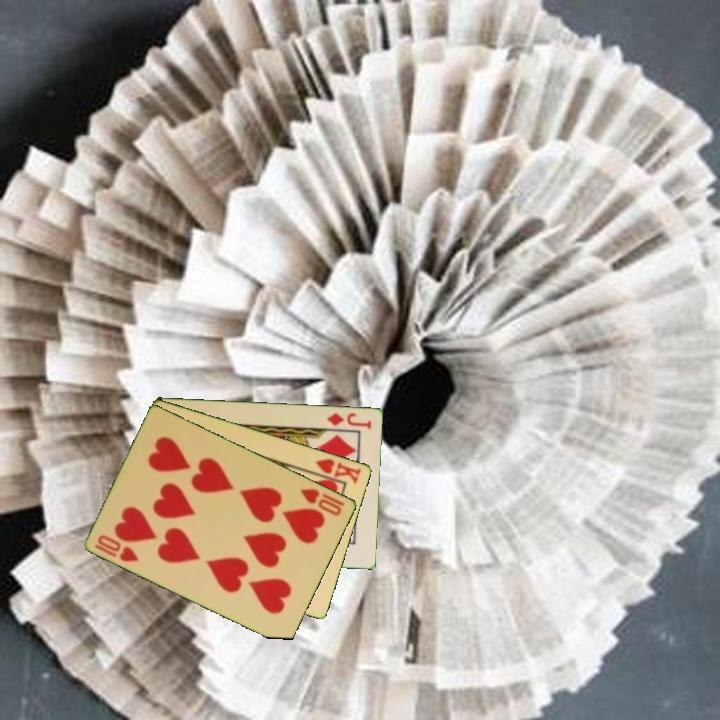10h: (92, 531, 142, 565), (297, 485, 345, 518)
Jd: (323, 409, 375, 432)
Kh: (306, 455, 364, 487)
